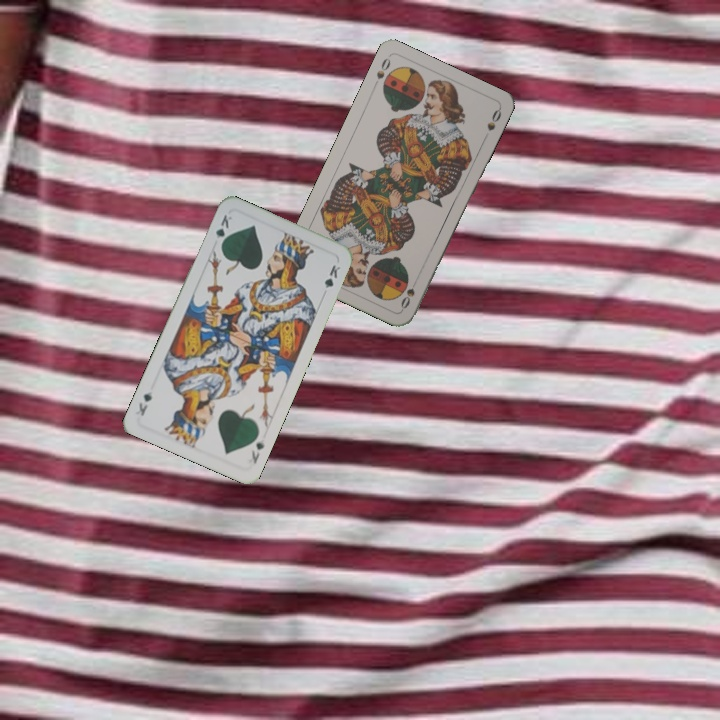GK: (212, 210, 235, 250), (247, 438, 267, 466)
SO: (397, 274, 421, 312), (372, 54, 393, 82)
